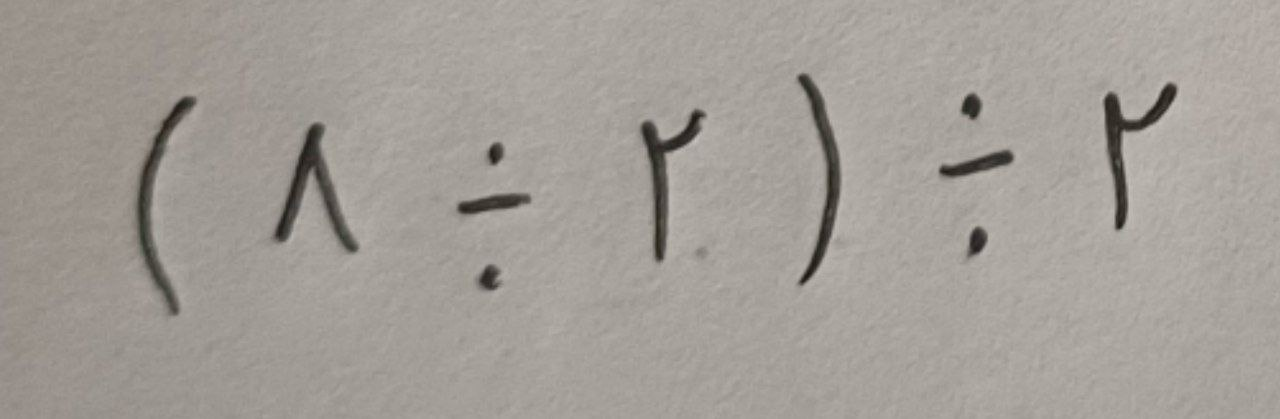character: (137, 97, 204, 313), (941, 90, 1012, 257), (455, 142, 534, 292), (636, 108, 706, 265), (1106, 80, 1177, 229), (272, 124, 357, 248), (796, 76, 841, 286)
